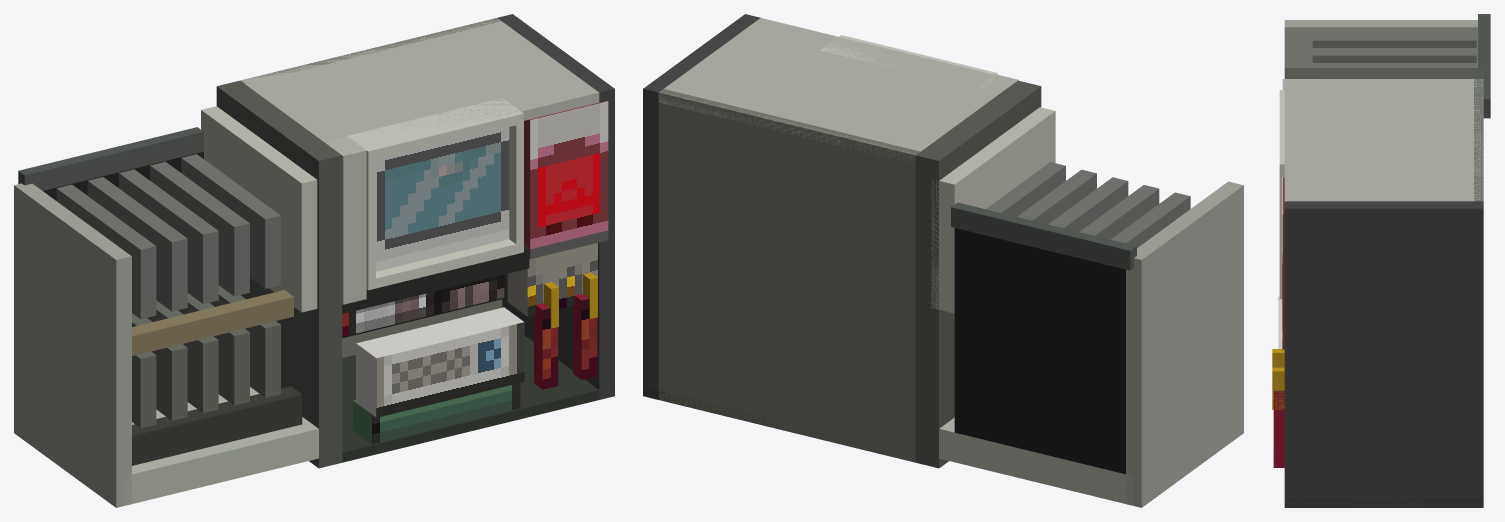
File: CMU3DMedilatheLeftCloud.glb
The picture shows the model from 3 angles, left to right: view 1: azimuth 30°, elevation 25°; view 2: azimuth 150°, elevation 25°; view 3: azimuth 270°, elevation 25°; orthographic projection. The views are drawn at different scales.
Parts seen in each view (by area): view 1: output end rail, full machine roof, main right separator, large medical viewport recessed inset original face, left red front instrument original face, output inner divider, medical cartridge control deck original face, output lower plinth, outer left full depth cabinet, lower roller guard, left cabinet bottom, large medical viewport upper frame (+29 smaller); view 2: main cabinet rear wall, output dark lower back, output end rail, full machine roof, main right separator, output inner divider, outer left full depth cabinet, output lower plinth, output upper rear safety rail, upper output roller 3, upper output roller 4, upper output roller 1 (+3 smaller); view 3: outer left full depth cabinet, full machine roof, output end rail, upper output roller 5, main right separator, upper output roller 6, left cabinet bottom, main cabinet rear wall, output upper rear safety rail, red fluid coupler 3, upper output roller 4, large medical viewport upper frame (+3 smaller).
Boxes of the visible parts, x1,y1,x2,y2 form: output end rail: (14, 183, 131, 507); full machine roof: (241, 18, 599, 153); main right separator: (216, 80, 342, 468); large medical viewport recessed inset original face: (376, 127, 509, 271); left red front instrument original face: (530, 101, 608, 258); output inner divider: (201, 106, 317, 312); medical cartridge control deck original face: (376, 322, 524, 417); output lower plinth: (124, 387, 318, 504); outer left full depth cabinet: (497, 14, 614, 399); lower roller guard: (132, 386, 302, 465); left cabinet bottom: (342, 336, 614, 462); large medical viewport upper frame: (347, 98, 523, 161); main cabinet rear wall: (658, 89, 920, 462); output dark lower back: (954, 228, 1125, 474); output end rail: (1126, 181, 1243, 507); full machine roof: (658, 18, 1017, 163); main right separator: (915, 80, 1041, 468); output inner divider: (931, 107, 1055, 313); outer left full depth cabinet: (643, 14, 760, 399); output lower plinth: (939, 417, 1133, 505); output upper rear safety rail: (951, 202, 1136, 270); upper output roller 3: (1048, 177, 1128, 231); upper output roller 4: (1079, 185, 1159, 239); upper output roller 1: (986, 162, 1065, 216); outer left full depth cabinet: (1284, 201, 1483, 507); full machine roof: (1284, 79, 1483, 201); output end rail: (1284, 20, 1477, 67); upper output roller 5: (1312, 48, 1476, 62); main right separator: (1284, 68, 1483, 78); upper output roller 6: (1312, 37, 1476, 47); left cabinet bottom: (1284, 498, 1483, 507); main cabinet rear wall: (1474, 79, 1483, 201); output upper rear safety rail: (1478, 14, 1490, 118); red fluid coupler 3: (1274, 390, 1284, 467); upper output roller 4: (1312, 63, 1476, 67); large medical viewport upper frame: (1279, 90, 1318, 173).
Size of the model in its own units: 2 by 1.18 by 0.779.
Materials: 34 (8 with a texture image).
